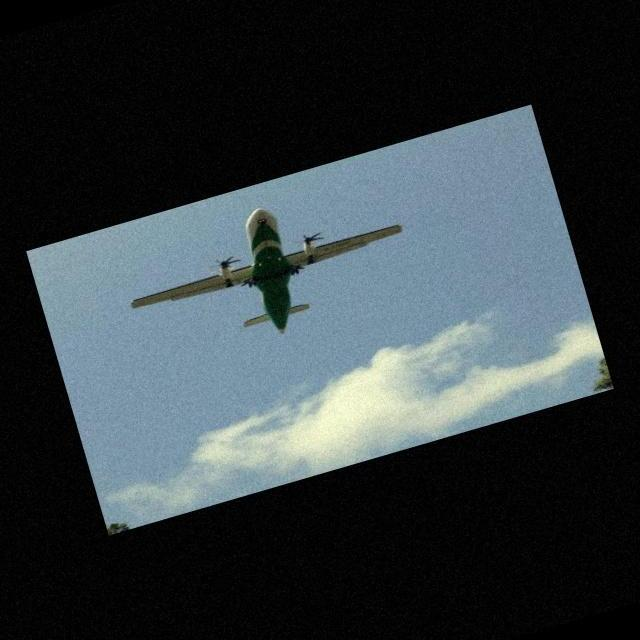airplane: (129, 201, 409, 331)
